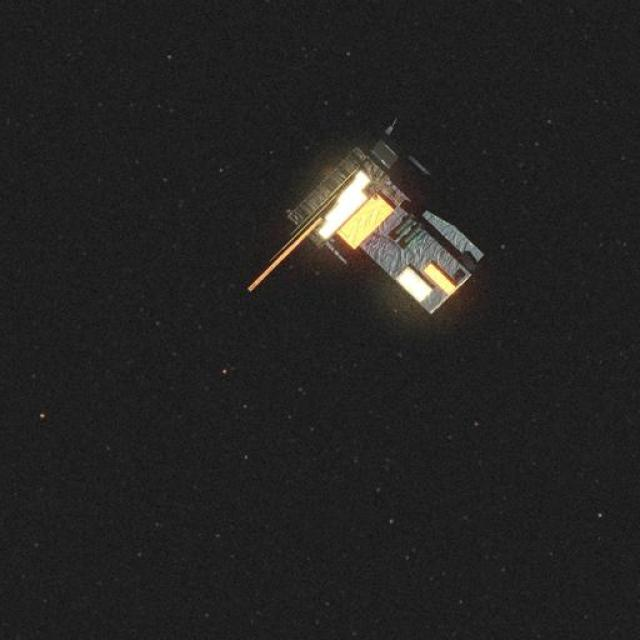soho: (239, 118, 503, 341)
